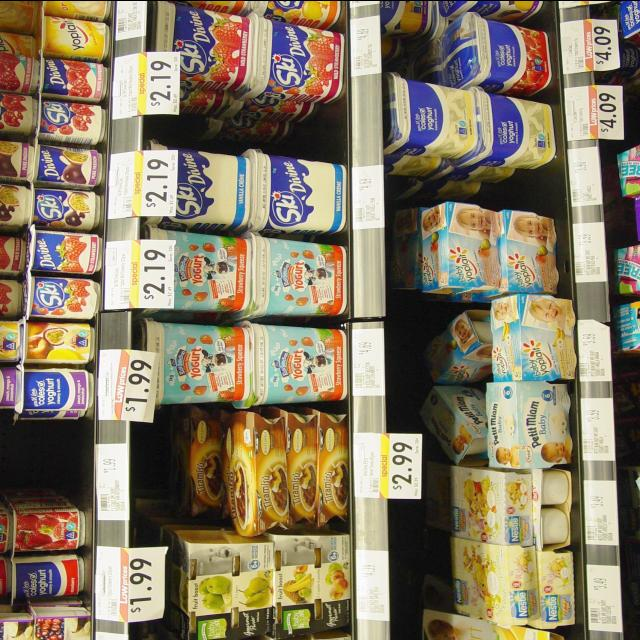empty_space: (2, 418, 90, 490), (179, 107, 341, 141), (398, 171, 550, 201)
